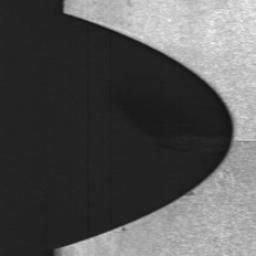Crescent gap: (61, 13, 234, 248)
